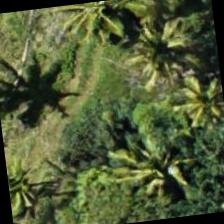Kelapa_Sawit: (102, 122, 202, 222), (140, 43, 223, 143)
